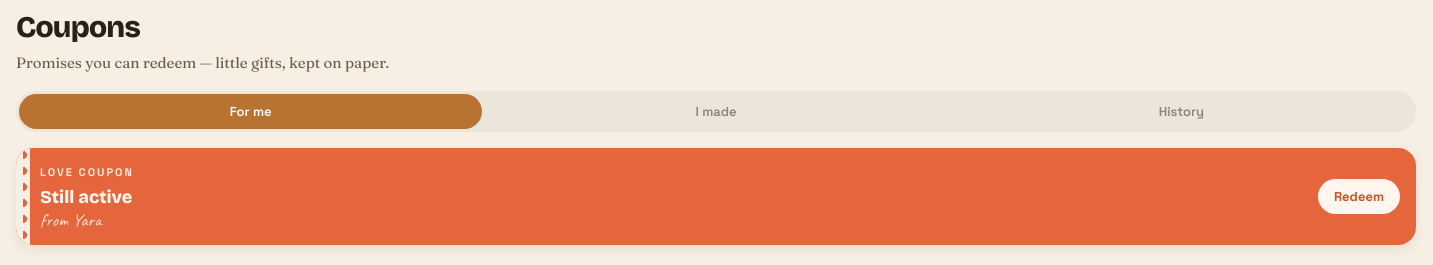
Scenario: CouponWalletPage › lists only redeemed coupons in the History tab
Click the button "History". click: (1181, 111)
box: [950,94,1413,129]
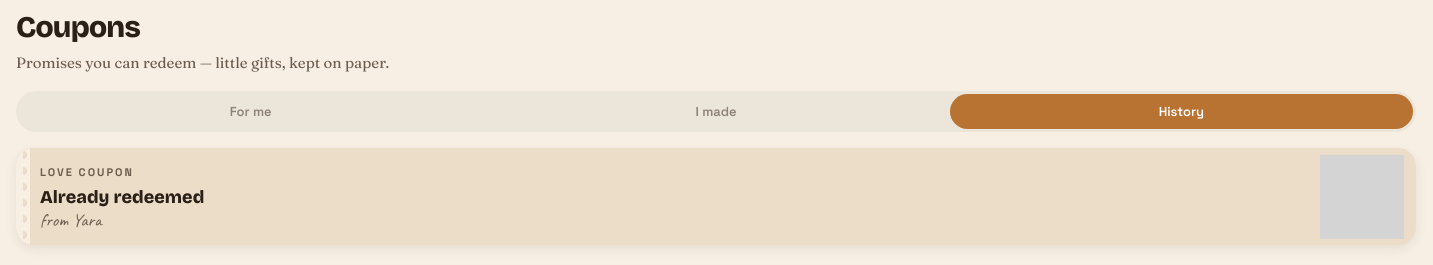
Result: the text "Already redeemed" is shown at [40,186,204,208]
Result: the text "Still active" is gone
